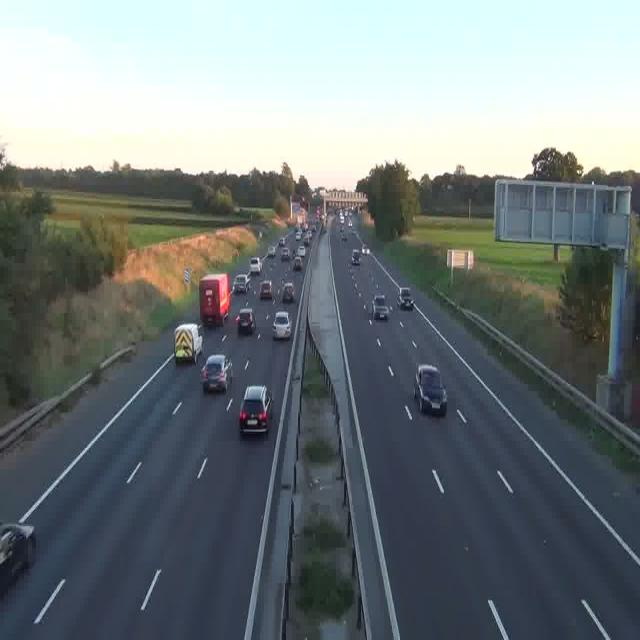car: (1, 522, 36, 593), (414, 364, 447, 415), (240, 386, 272, 437), (173, 322, 203, 362), (202, 353, 232, 392), (237, 302, 257, 334), (273, 312, 292, 340), (372, 293, 388, 320), (398, 286, 414, 308), (260, 280, 275, 301), (248, 257, 262, 274), (282, 281, 294, 300), (292, 256, 302, 271), (280, 248, 290, 261), (352, 250, 360, 266), (266, 245, 275, 258), (299, 244, 307, 257)
truck: (200, 273, 231, 324)
